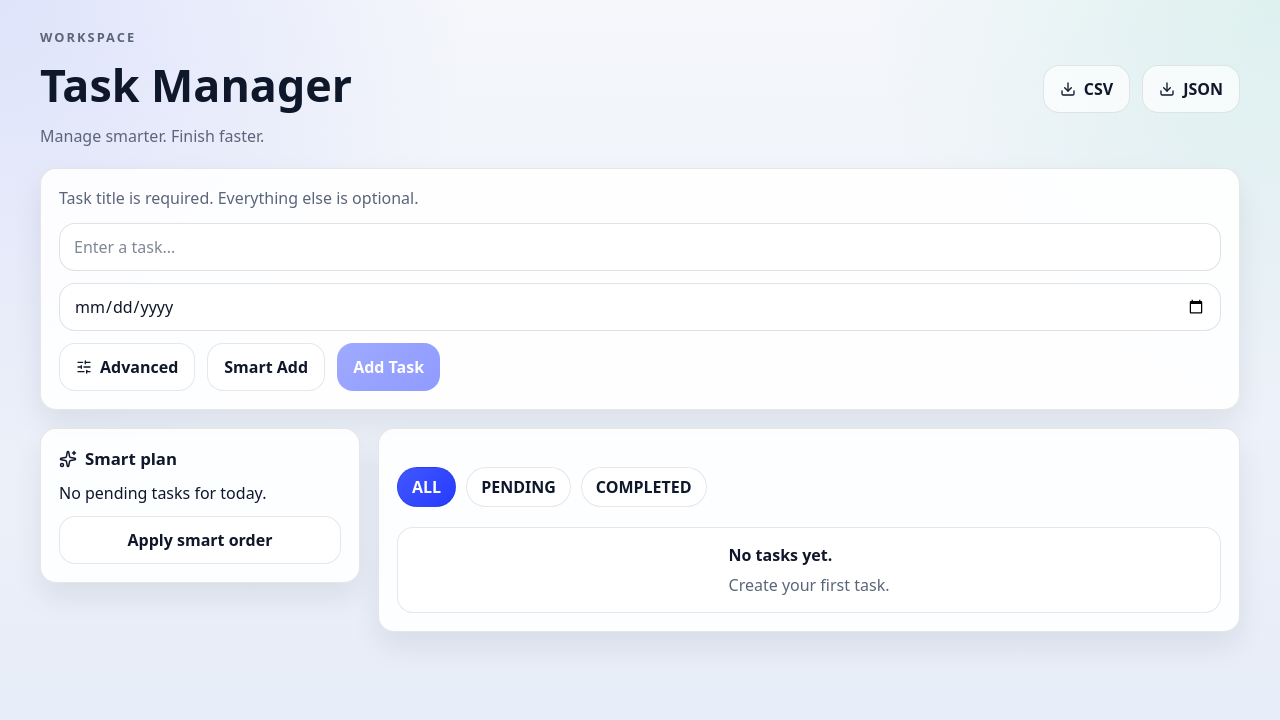
Test: Task Feature Integration › edits a task title
Type "Old Task" into the field with placeholder "Enter a task..." at {"x": 640, "y": 247}, box [59, 223, 1221, 271]
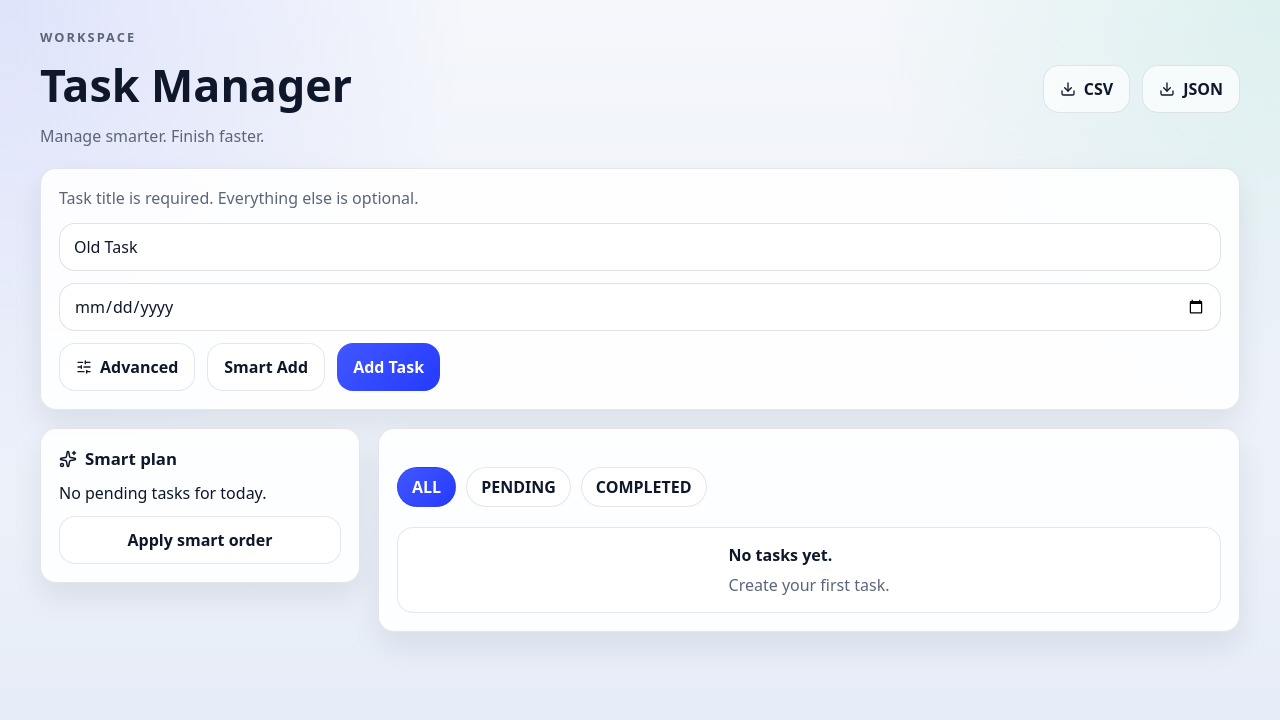
Click the button "Add Task" at {"x": 389, "y": 367}, box [337, 343, 440, 391]
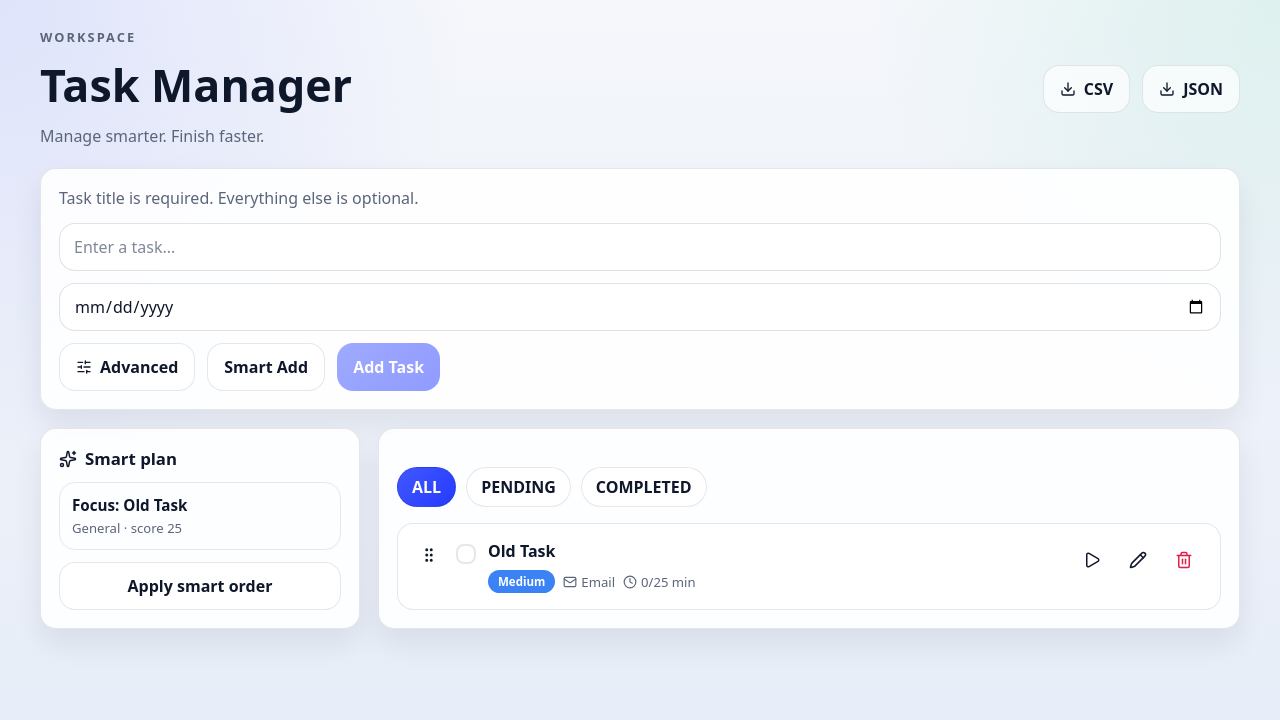
Click the button named "edit task" at {"x": 1138, "y": 560}, box [1118, 540, 1158, 580]
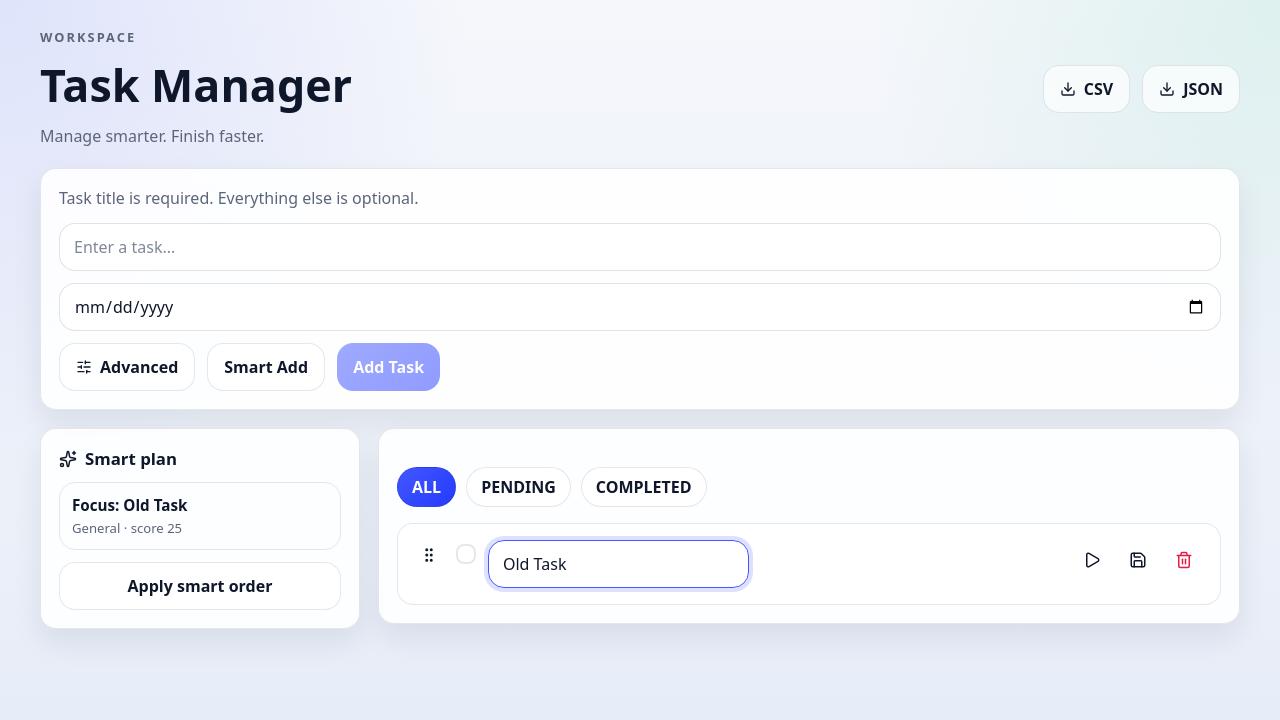
Replace the text in the field showing "Old Task" with "Updated Task" at {"x": 618, "y": 564}, box [488, 540, 749, 588]
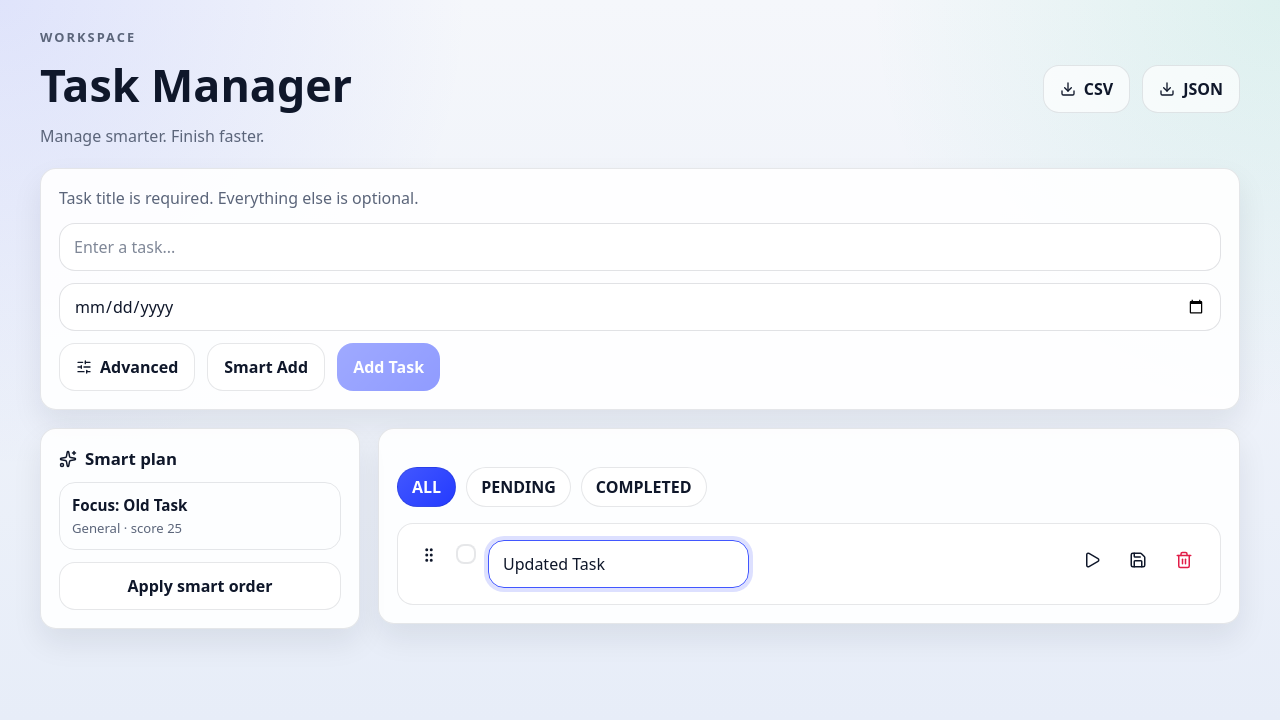
Click the button named "save task" at {"x": 1138, "y": 560}, box [1118, 540, 1158, 580]
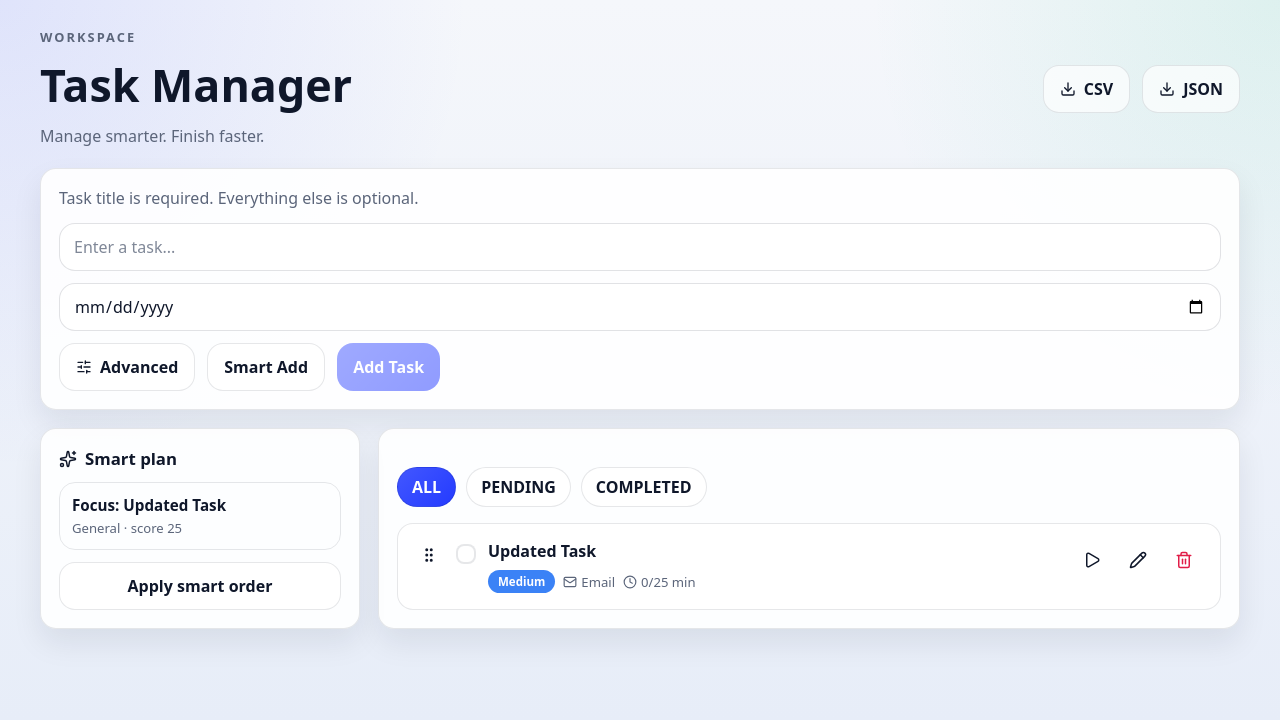
Expected: the text "Updated Task" is shown, [488, 540, 596, 562]
